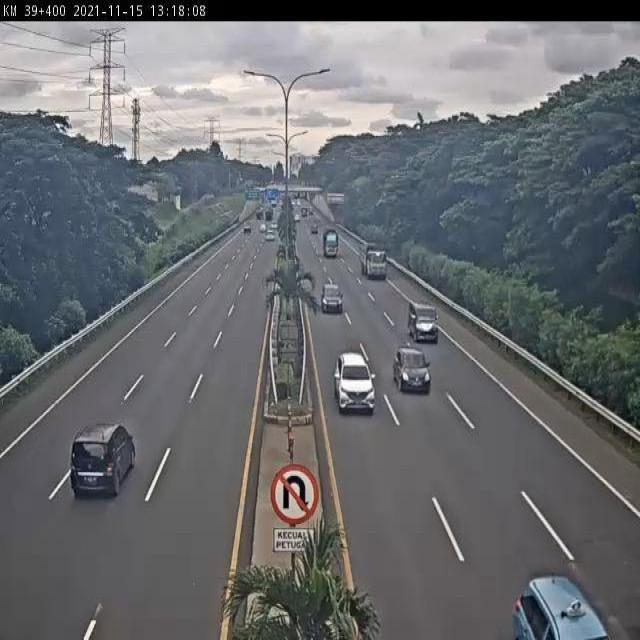car: (69, 419, 137, 499), (334, 352, 375, 412), (393, 347, 432, 393), (407, 300, 441, 344), (321, 283, 344, 315)
truck: (358, 243, 387, 280)
